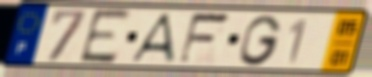1: (287, 17, 308, 64)
7: (48, 7, 90, 64)
A: (127, 12, 177, 65)
E: (77, 7, 135, 65)
F: (175, 11, 234, 67)
G: (237, 13, 284, 68)
